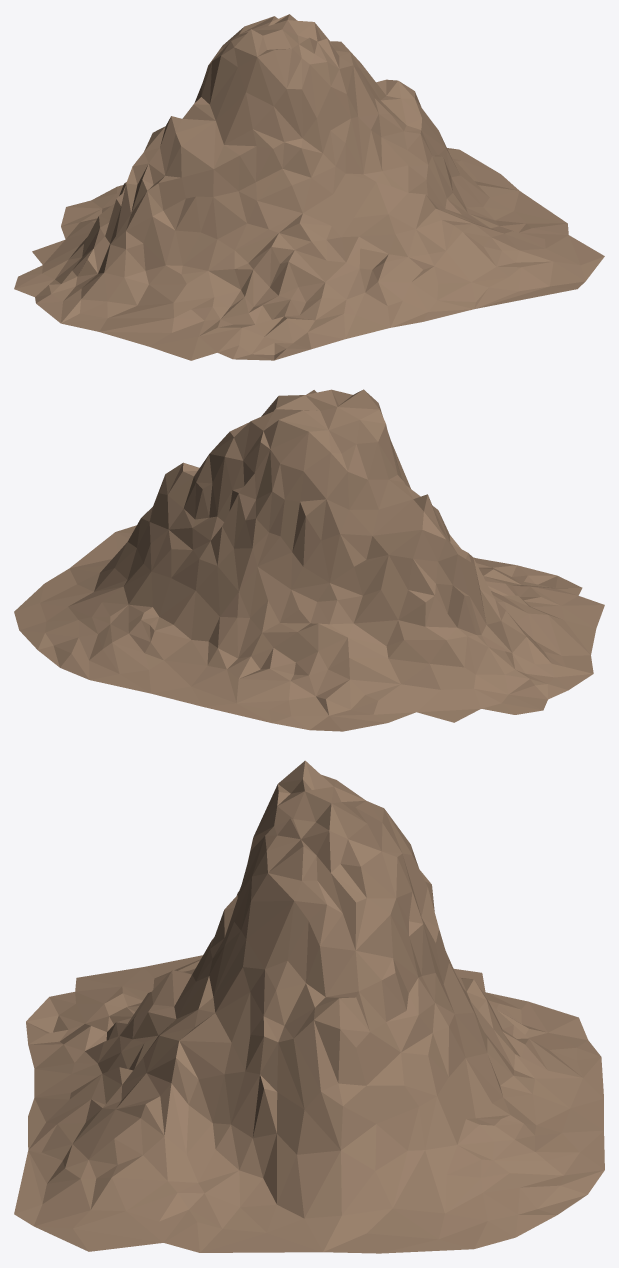
Rendered from Mountain_03.fbx.
3 views of the same model, one above another, from view 1: azimuth 30°, elevation 25°; view 2: azimuth 150°, elevation 25°; view 3: azimuth 270°, elevation 25° (orthographic). The views are drawn at different scales.
Visible parts, largest first — view 1: Mountain_03; view 2: Mountain_03; view 3: Mountain_03.
Part boxes in pixels (bbox=[...]): Mountain_03: bbox=[14, 14, 604, 360]; Mountain_03: bbox=[14, 389, 604, 731]; Mountain_03: bbox=[14, 760, 604, 1253].
Bounding box in the file's own units: 15480 × 7325 × 12259.
